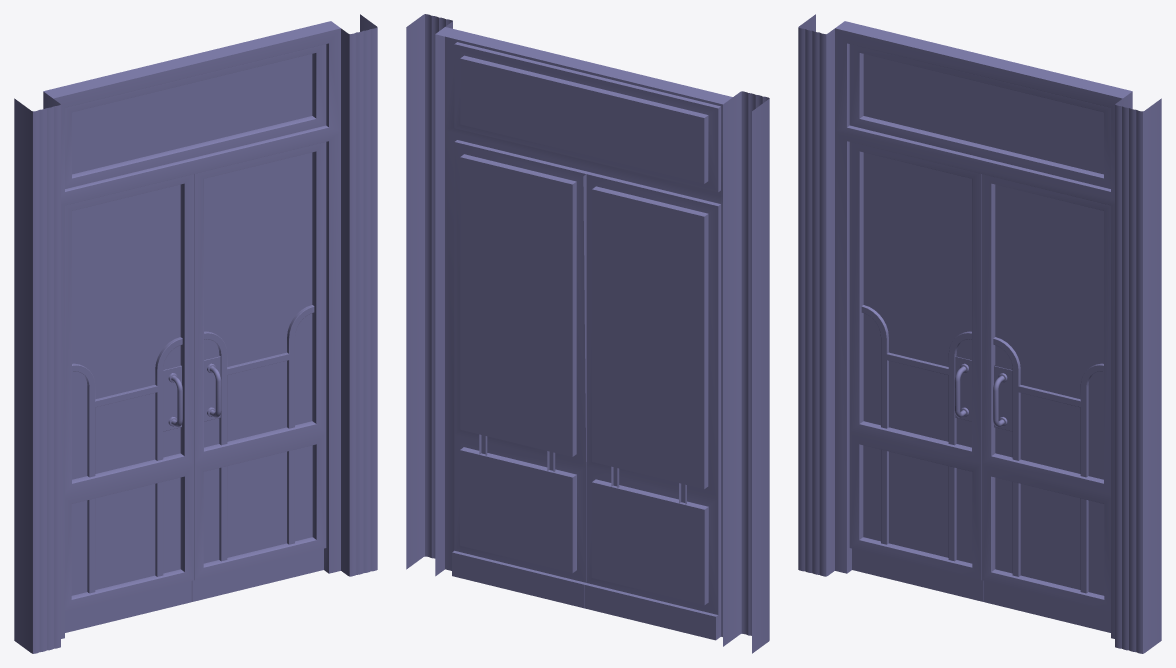
Rendered from M_A_door_02.fbx.
The picture shows the model from 3 angles, left to right: view 1: azimuth 30°, elevation 25°; view 2: azimuth 150°, elevation 25°; view 3: azimuth 330°, elevation 25°; orthographic projection.
Visible parts, largest first — view 1: M_A_door_02; view 2: M_A_door_02; view 3: M_A_door_02.
Part boxes in pixels (x1,y1,x2,y2): M_A_door_02: (14, 14, 377, 653); M_A_door_02: (406, 14, 769, 653); M_A_door_02: (798, 14, 1161, 653).
Size of the model in its own units: 200 by 300 by 18.51.
